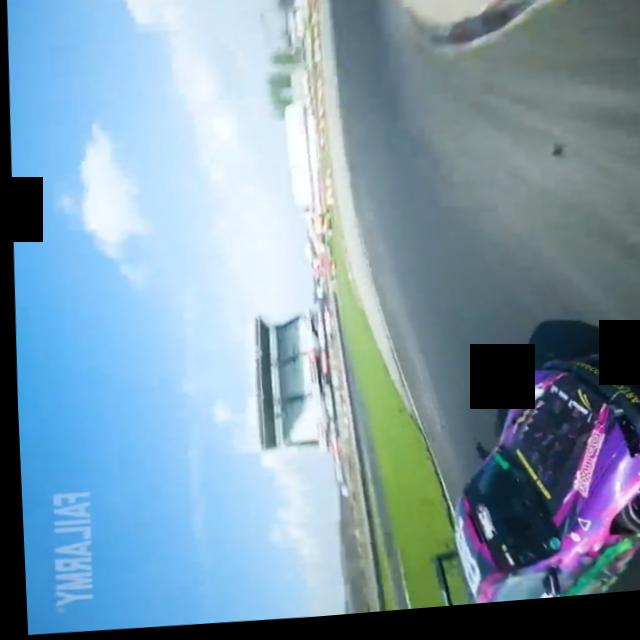Vehicle: (422, 350, 640, 614)
